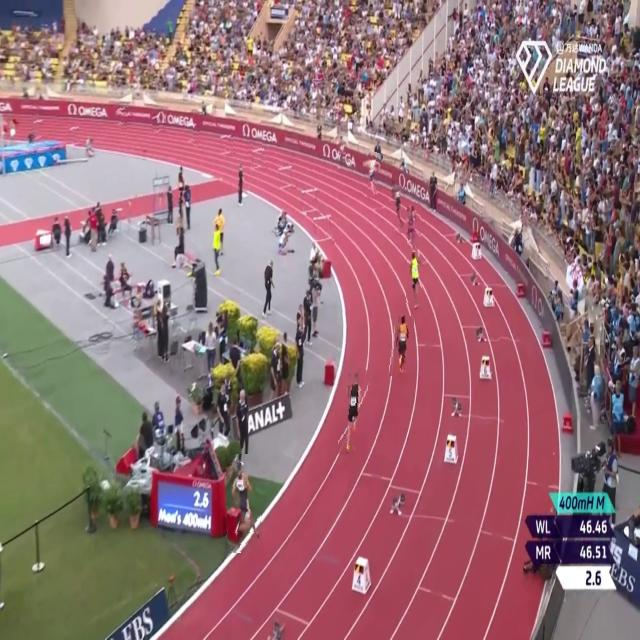athlete: (228, 454, 262, 552), (340, 368, 367, 456), (390, 314, 413, 377), (406, 251, 424, 316), (402, 202, 425, 251), (362, 152, 381, 198), (392, 186, 407, 233), (337, 131, 350, 175)
hurdle: (314, 210, 338, 244), (276, 160, 296, 194), (246, 142, 267, 171), (299, 184, 319, 212), (185, 117, 200, 146), (66, 126, 82, 150), (220, 130, 233, 157), (114, 105, 128, 130), (152, 112, 166, 133), (32, 114, 45, 136)
